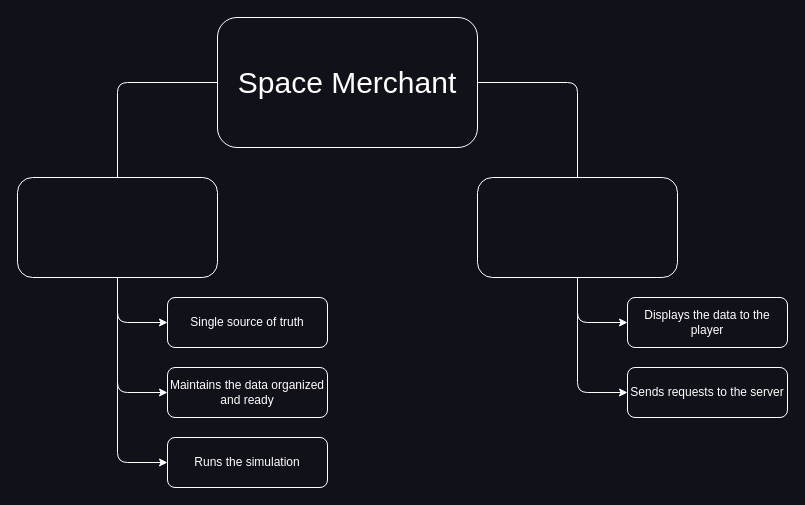
Some shapes in this 805 by 505 pixel diagram are drawn without their labels. Each missing label, with the box of its shape:
Client: (476, 176, 678, 278)
Server: (16, 176, 218, 278)
